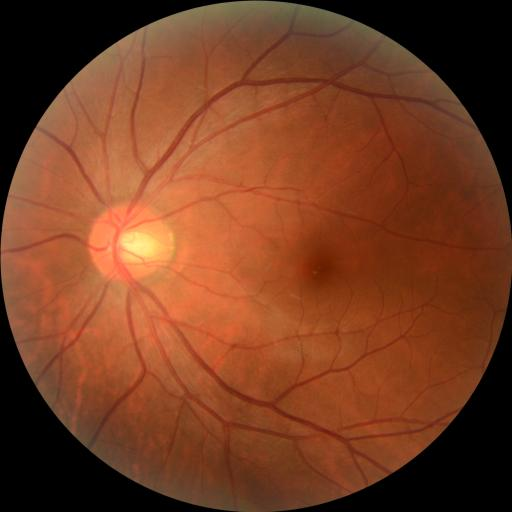Optic Cup: (116, 231, 164, 263)
Optic Disc: (87, 202, 176, 284)
